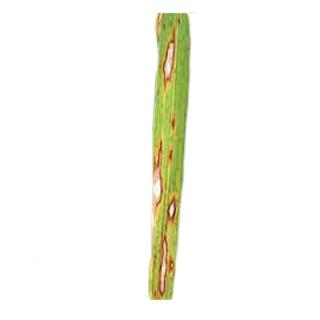Blast: (156, 15, 182, 95), (155, 233, 179, 298), (148, 161, 167, 216), (166, 113, 182, 173), (162, 194, 184, 226)
